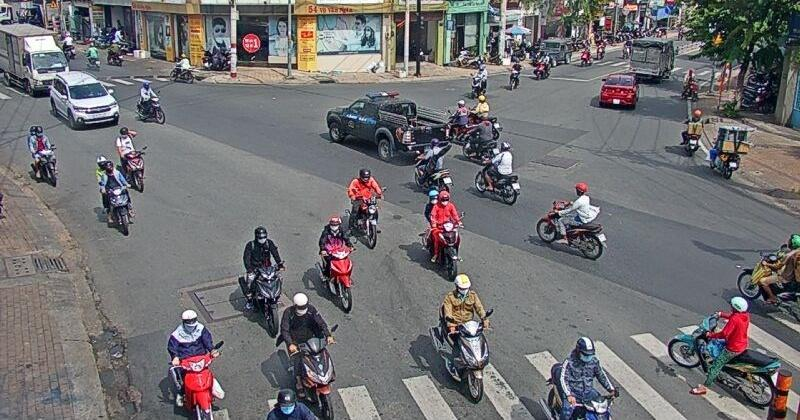xe hoi: (326, 91, 450, 161), (49, 71, 119, 129), (599, 73, 637, 109)
xe may: (667, 296, 779, 407), (428, 273, 493, 404), (279, 292, 338, 420), (540, 336, 618, 420), (166, 309, 223, 420), (535, 183, 608, 261), (735, 233, 800, 316), (238, 226, 284, 334), (420, 189, 465, 280), (315, 215, 353, 312), (346, 168, 386, 249), (96, 154, 134, 236), (474, 140, 520, 205), (117, 127, 148, 191), (28, 125, 58, 188), (136, 82, 166, 124), (681, 110, 703, 154), (469, 64, 486, 97)
